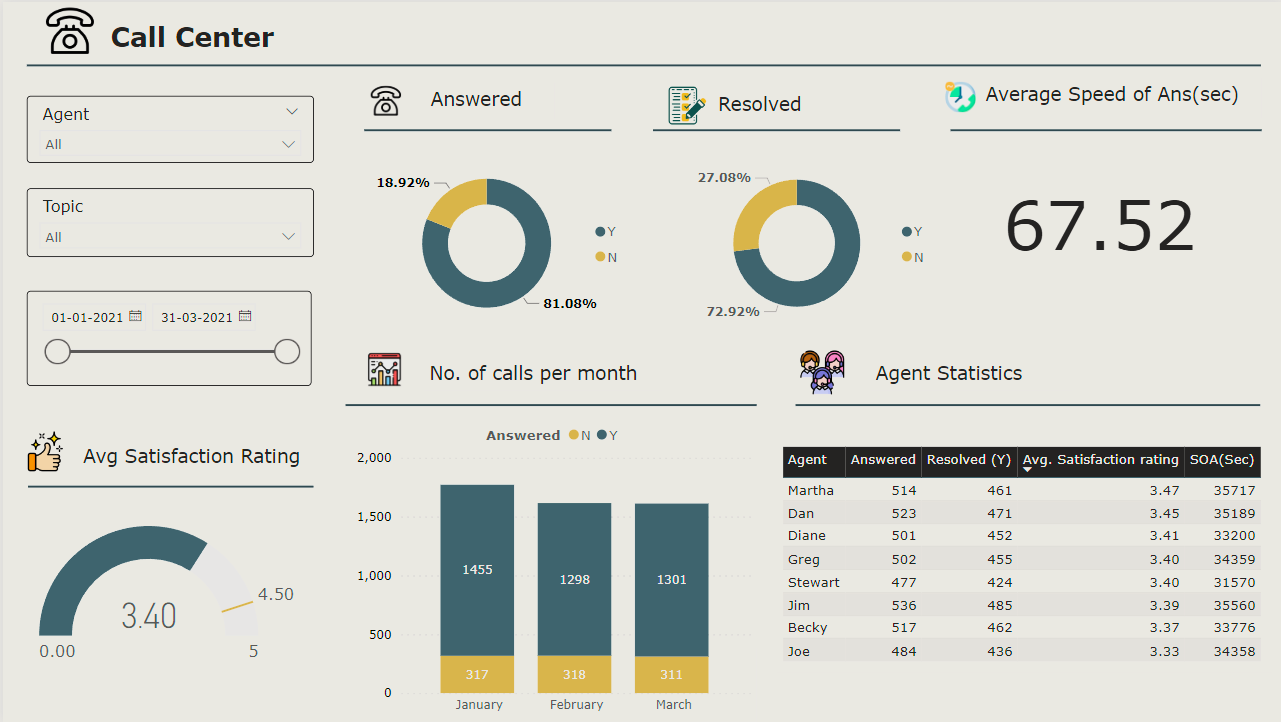

The page's visual inventory and layout, read from the dashboard file:
{"tool":"powerbi","page":{"name":"Page 1","canvas":[1280,720],"ordinal":0},"visuals":[{"type":"slicer","fields":{"Values":["Sheet1.Agent"]},"box":[24.1,94.1,287.1,67.6],"z":0},{"type":"slicer","fields":{"Values":["Sheet1.Topic"]},"box":[24.1,185.8,287.1,68.8],"z":1000},{"type":"gauge","fields":{"Y":["Sheet1.Satisfaction rating"],"MaxValue":["Sheet1.Satisfaction rating"]},"box":[31.4,485,270.2,217.2],"z":2000},{"type":"donutChart","fields":{"Category":["Sheet1.Answered (Y/N)"],"Y":["Sheet1.Answered (Y/N)"]},"box":[371.6,141.2,258.2,200.3],"z":3000},{"type":"donutChart","fields":{"Category":["Sheet1.Resolved"],"Y":["Sheet1.Resolved"]},"box":[685.3,141.2,250.9,200.3],"z":4000},{"type":"textbox","box":[709.4,85.7,129.1,36.2],"z":5000},{"type":"textbox","box":[422.3,80.8,129.1,36.2],"z":6000},{"type":"card","fields":{"Values":["Sheet1.Speed of answer in seconds"]},"box":[936.2,161.7,322.1,114.6],"z":7000},{"type":"textbox","box":[977.2,76,281.1,39.8],"z":8000},{"type":"shape","box":[360.7,114.6,247.3,26.5],"z":9000},{"type":"shape","box":[650.3,114.6,247.3,26.5],"z":10000},{"type":"shape","box":[947.1,114.6,311.3,26.5],"z":11000},{"type":"shape","box":[25.3,474.1,285.9,21.7],"z":12000},{"type":"textbox","box":[74.8,437.9,236.5,36.2],"z":13000},{"type":"columnChart","fields":{"Series":["Sheet1.Answered (Y/N)"],"Category":["Sheet1.Date.Variation.Date Hierarchy.Month"],"Y":["Sheet1.Answered (Y/N)"]},"box":[348.8,412.5,405,307.5],"z":14000},{"type":"shape","box":[342.5,393.8,411.2,18.8],"z":15000},{"type":"tableEx","fields":{"Values":["Sheet1.Agent","Sheet1.Answered","Sheet1.Resolved (Y)","Sheet1.Satisfaction rating","Sheet1.Speed of answer in seconds"]},"box":[773.8,440,495,230],"z":16000},{"type":"shape","box":[792.5,393.8,465,18.8],"z":17000},{"type":"shape","box":[24.1,54.3,1234.2,19.3],"z":18000},{"type":"textbox","box":[421.2,355,237.5,33.8],"z":19000},{"type":"textbox","box":[867.5,355,201.2,33.8],"z":20000},{"type":"textbox","box":[102.5,12.1,203.9,45.8],"z":21000},{"type":"slicer","fields":{"Values":["Sheet1.Date"]},"box":[24.1,288.3,284.7,95.3],"z":22000},{"type":"image","box":[18.1,423.5,49.5,50.7],"z":23000},{"type":"image","box":[352.3,78.4,60.3,39.8],"z":24000},{"type":"image","box":[658.7,78.4,51.9,49.5],"z":25000},{"type":"image","box":[937.4,74.8,39.8,39.8],"z":26000},{"type":"image","box":[24.1,0,86.9,57.9],"z":27000},{"type":"image","box":[792.5,341.2,53.8,58.8],"z":28000},{"type":"image","box":[358.8,346.2,46.2,42.5],"z":29000}]}

Visuals, with their boxes in screenshot pixels (x1, y1, x2, y2), scaled from the page's 1280x720 canvas onto the 1281x722 screenshot:
slicer - Sheet1.Agent: l=24, t=94, r=311, b=162
slicer - Sheet1.Topic: l=24, t=186, r=311, b=255
gauge - Sheet1.Satisfaction rating x Sheet1.Satisfaction rating: l=31, t=486, r=302, b=704
donutChart - Sheet1.Answered (Y/N) x Sheet1.Answered (Y/N): l=372, t=142, r=630, b=342
donutChart - Sheet1.Resolved x Sheet1.Resolved: l=686, t=142, r=937, b=342
textbox: l=710, t=86, r=839, b=122
textbox: l=423, t=81, r=552, b=117
card - Sheet1.Speed of answer in seconds: l=937, t=162, r=1259, b=277
textbox: l=978, t=76, r=1259, b=116
shape: l=361, t=115, r=608, b=141
shape: l=651, t=115, r=898, b=141
shape: l=948, t=115, r=1259, b=141
shape: l=25, t=475, r=311, b=497
textbox: l=75, t=439, r=312, b=475
columnChart - Sheet1.Answered (Y/N) x Sheet1.Date.Variation.Date Hierarchy.Month: l=349, t=414, r=754, b=721
shape: l=343, t=395, r=754, b=414
tableEx - Sheet1.Agent x Sheet1.Answered: l=774, t=441, r=1270, b=672
shape: l=793, t=395, r=1258, b=414
shape: l=24, t=54, r=1259, b=74
textbox: l=422, t=356, r=659, b=390
textbox: l=868, t=356, r=1070, b=390
textbox: l=103, t=12, r=307, b=58
slicer - Sheet1.Date: l=24, t=289, r=309, b=385
image: l=18, t=425, r=68, b=476
image: l=353, t=79, r=413, b=119
image: l=659, t=79, r=711, b=128
image: l=938, t=75, r=978, b=115
image: l=24, t=0, r=111, b=58
image: l=793, t=342, r=847, b=401
image: l=359, t=347, r=405, b=390
